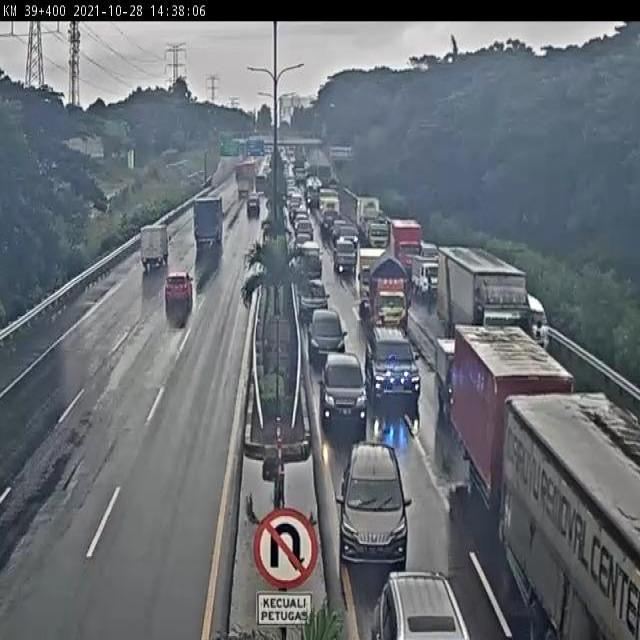big truck: (494, 386, 640, 640), (451, 321, 569, 524), (436, 243, 560, 397), (130, 216, 174, 285), (188, 193, 227, 259)
car: (340, 433, 404, 567), (365, 558, 467, 640), (364, 321, 423, 412), (322, 345, 366, 435), (308, 308, 349, 379), (160, 269, 203, 328), (299, 278, 331, 326), (332, 238, 361, 274), (243, 194, 267, 222)
small truck: (371, 256, 415, 336)
